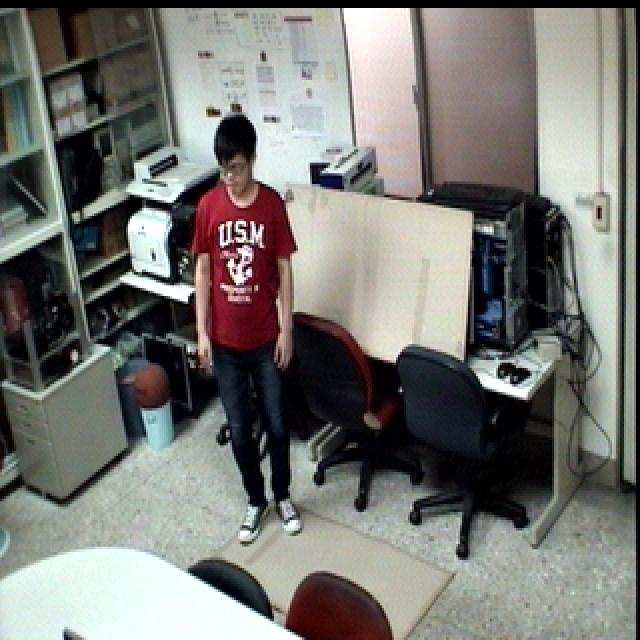stand: (178, 108, 311, 553)
